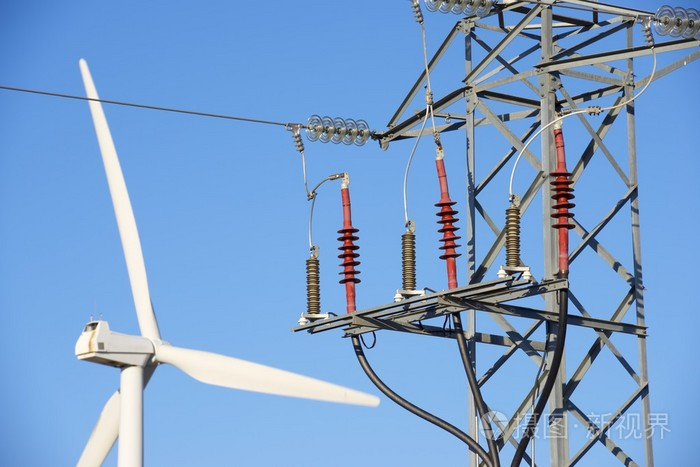insulator: (303, 114, 369, 146), (547, 166, 577, 233), (433, 197, 463, 264), (336, 225, 365, 287), (653, 5, 700, 40), (417, 1, 495, 21)
